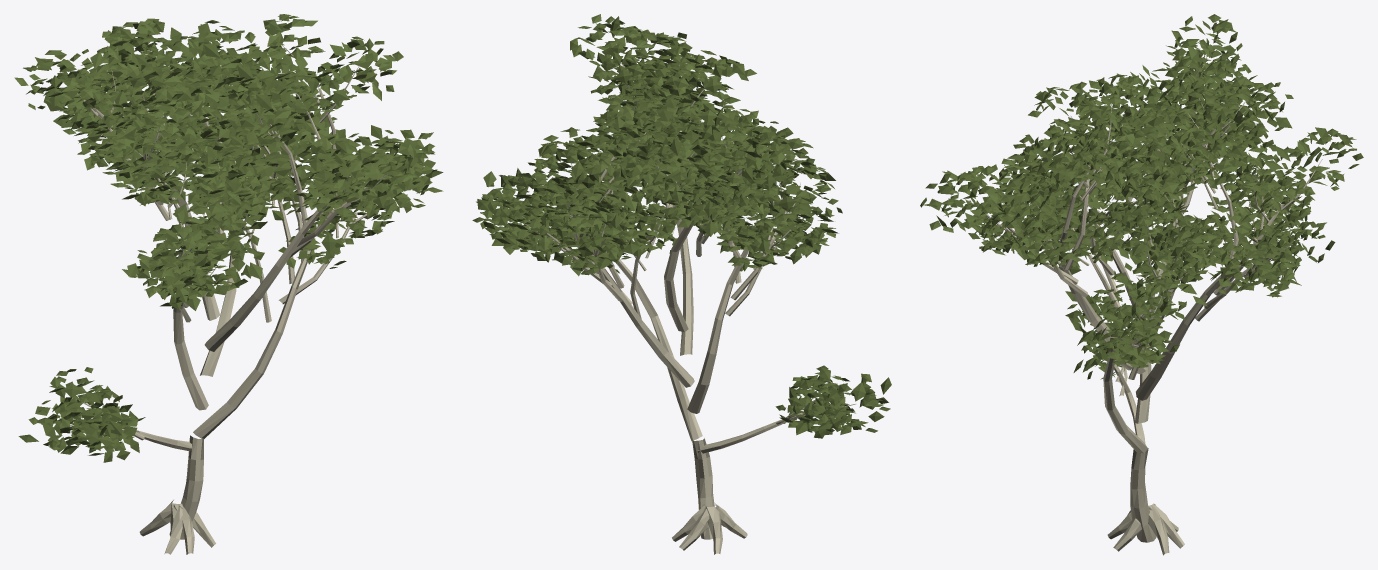
Rendered from multi-stem-birch.glb.
The picture shows the model from 3 angles, left to right: view 1: azimuth 30°, elevation 25°; view 2: azimuth 150°, elevation 25°; view 3: azimuth 270°, elevation 25°; orthographic projection. The views are drawn at different scales.
Visible parts, largest first — view 1: individual-folded-leaves, connected-curved-wood; view 2: individual-folded-leaves, connected-curved-wood; view 3: individual-folded-leaves, connected-curved-wood.
Part boxes in pixels (x1,y1,x2,y2): individual-folded-leaves: (14, 14, 443, 462); connected-curved-wood: (62, 45, 395, 554); individual-folded-leaves: (472, 14, 891, 438); connected-curved-wood: (522, 51, 855, 554); individual-folded-leaves: (920, 14, 1363, 379); connected-curved-wood: (963, 54, 1322, 555).
Bounding box in the file's own units: 9.94 × 11.66 × 9.25.
